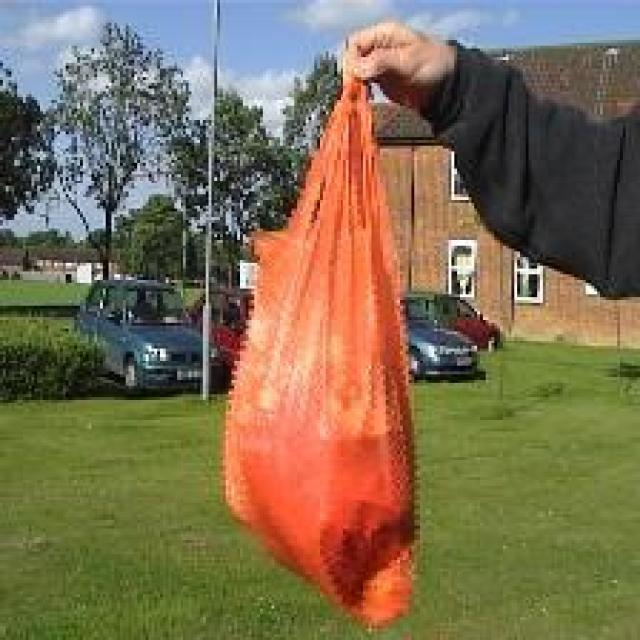other: (226, 80, 438, 616)
